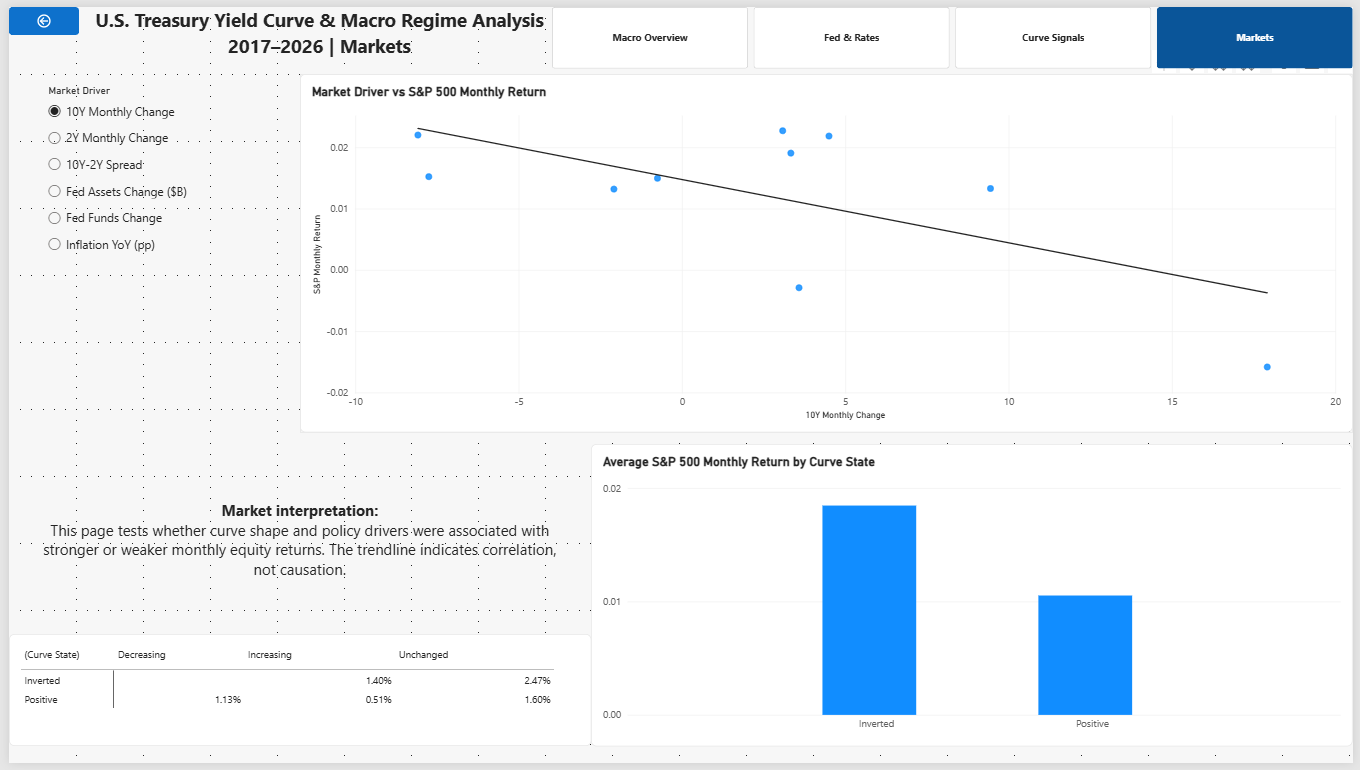

The dashboard page shown, as its layout file describes it:
{"tool":"powerbi","page":{"name":"Markets","canvas":[1920,1080],"ordinal":3},"visuals":[{"type":"slicer","fields":{"Values":["Market Driver.Market Driver"]},"box":[336,120,236,284],"z":0},{"type":"scatterChart","title":"Market Driver vs S&P 500 Monthly Return","fields":{"Category":["analytics dim_month.month_date.Variation.Date Hierarchy.Year","analytics dim_month.month_date.Variation.Date Hierarchy.Quarter","analytics dim_month.month_date.Variation.Date Hierarchy.Month","analytics dim_month.month_date.Variation.Date Hierarchy.Day"],"X":["analytics monthly_macro_market.10Y-2Y Treasury Spread (%)"],"Y":["analytics monthly_macro_market.S&P Monthly Return"]},"box":[840,96,1080,504],"z":1},{"type":"pivotTable","fields":{"Columns":["analytics monthly_macro_market.fed_funds_direction"],"Rows":["analytics monthly_macro_market.(Curve State)"],"Values":["Avg(analytics monthly_macro_market.sp500_monthly_return)"]},"box":[0,896,832,160],"z":2},{"type":"actionButton","box":[0,0,100,40],"z":3},{"type":"columnChart","title":"Average S&P 500 Monthly Return by Curve State","fields":{"Category":["analytics monthly_macro_market.(Curve State)"],"Y":["analytics monthly_macro_market.S&P Monthly Return"]},"box":[832,624,1088,432],"z":5},{"type":"textbox","box":[117.5,0,652.5,115],"z":7},{"type":"pageNavigator","box":[775.1,0,1144.9,88.2],"z":8},{"type":"textbox","box":[32,656,768,144],"z":9},{"type":"textbox","box":[24,432,768,168],"z":10}]}

Visuals, with their boxes in screenshot pixels (x1, y1, x2, y2), scaled from the page's 1920x1080 canvas onto the 1360x770 screenshot:
slicer - Market Driver.Market Driver: <region>238, 86, 405, 288</region>
"Market Driver vs S&P 500 Monthly Return" scatterChart: <region>595, 68, 1359, 428</region>
pivotTable - analytics monthly_macro_market.fed_funds_direction x analytics monthly_macro_market.(Curve State): <region>0, 639, 589, 753</region>
actionButton: <region>0, 0, 71, 29</region>
"Average S&P 500 Monthly Return by Curve State" columnChart: <region>589, 445, 1359, 753</region>
textbox: <region>83, 0, 545, 82</region>
pageNavigator: <region>549, 0, 1359, 63</region>
textbox: <region>23, 468, 567, 570</region>
textbox: <region>17, 308, 561, 428</region>
